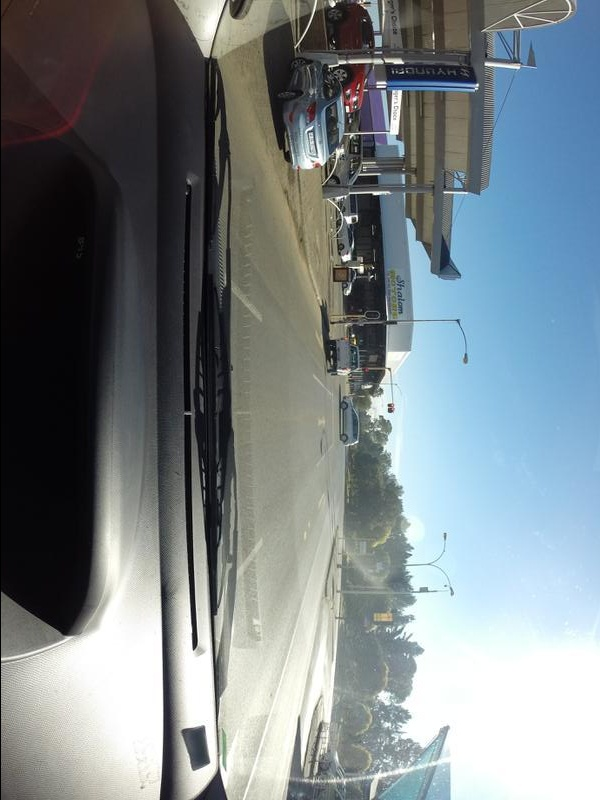pothole: (317, 438, 325, 462)
